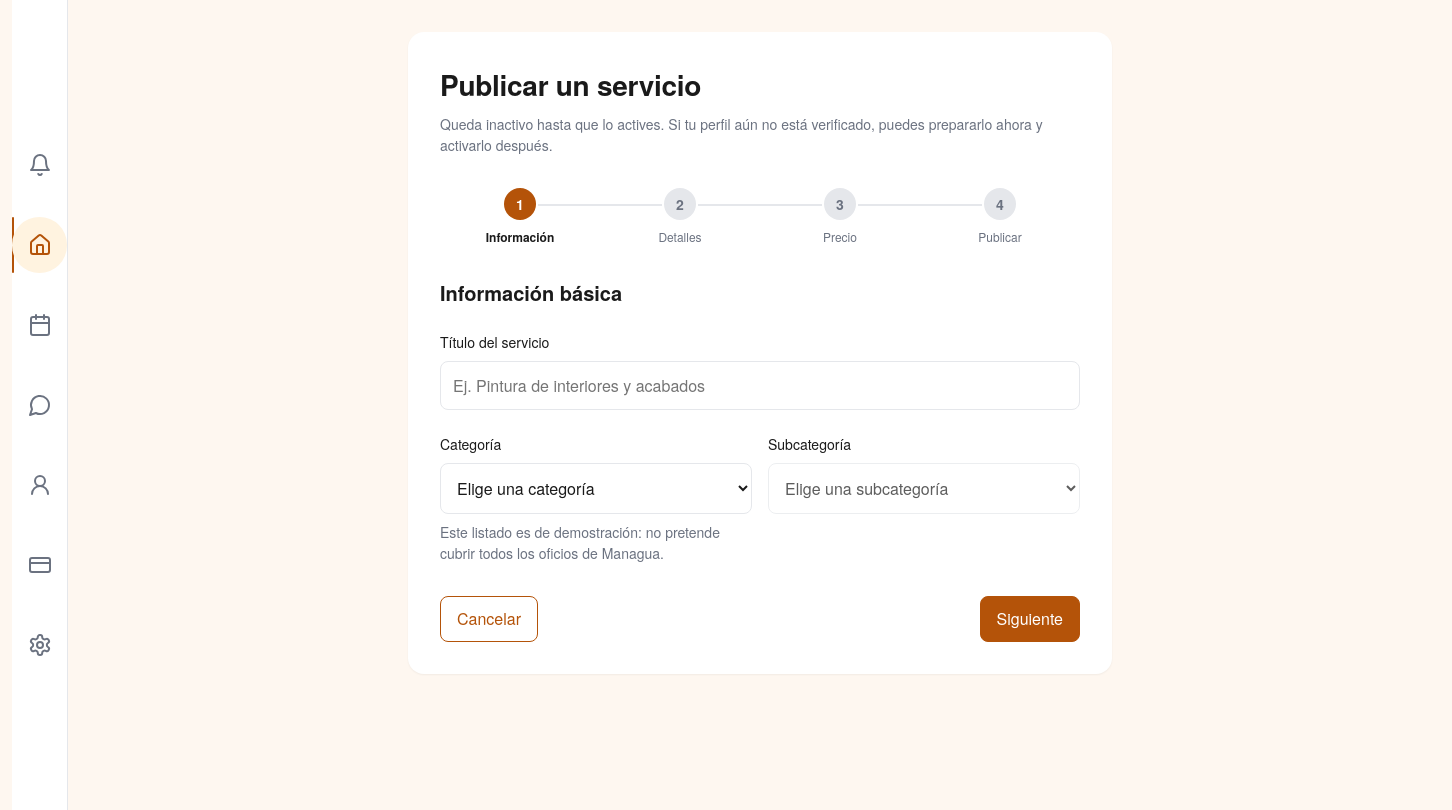
Test: Asistente de nuevo servicio › no avanza ni publica si el paso de información está incompleto
Click the button "Siguiente": [1030, 619] box [980,596,1080,642]
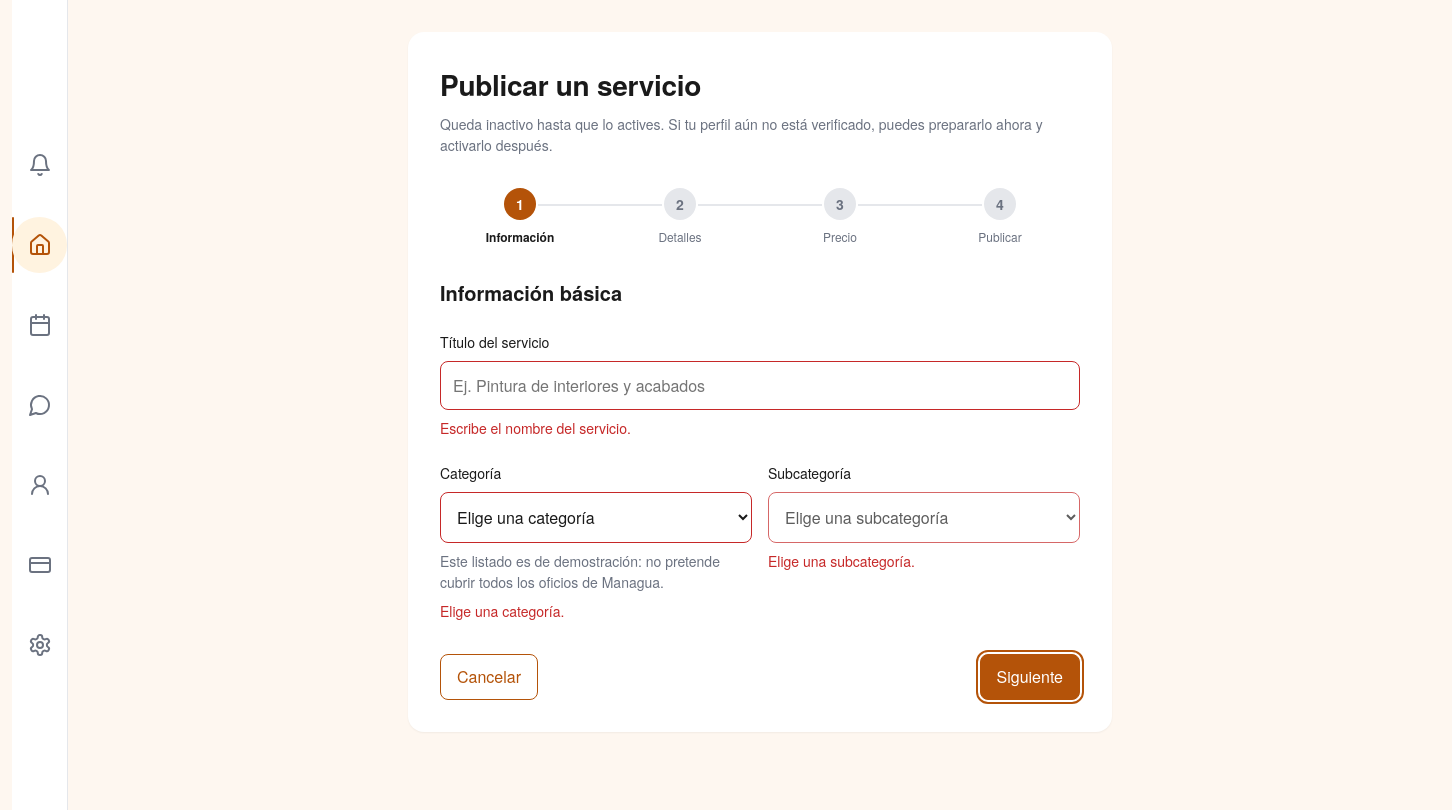
Check: the text "Escribe el nombre del servicio." is shown, box [440,418,631,438]
Check: the text "Elige una categoría." is shown, box [440,601,564,621]
Check: the text "Elige una subcategoría." is shown, box [768,551,915,571]
